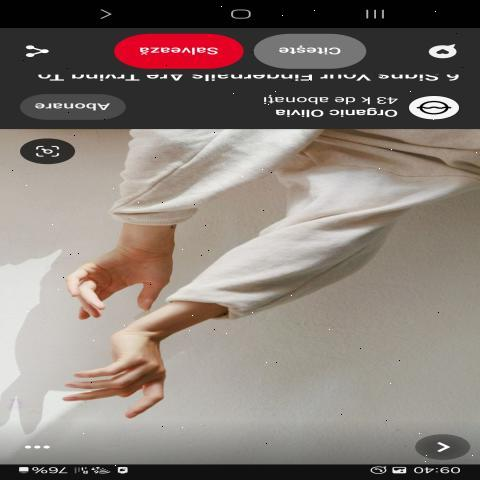Hands: (43, 210, 183, 328), (45, 318, 181, 434)
